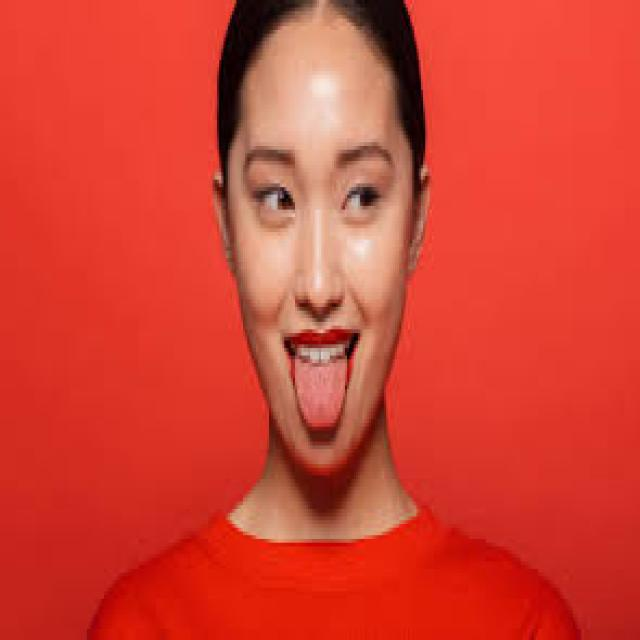tongue: (290, 359, 353, 439)
